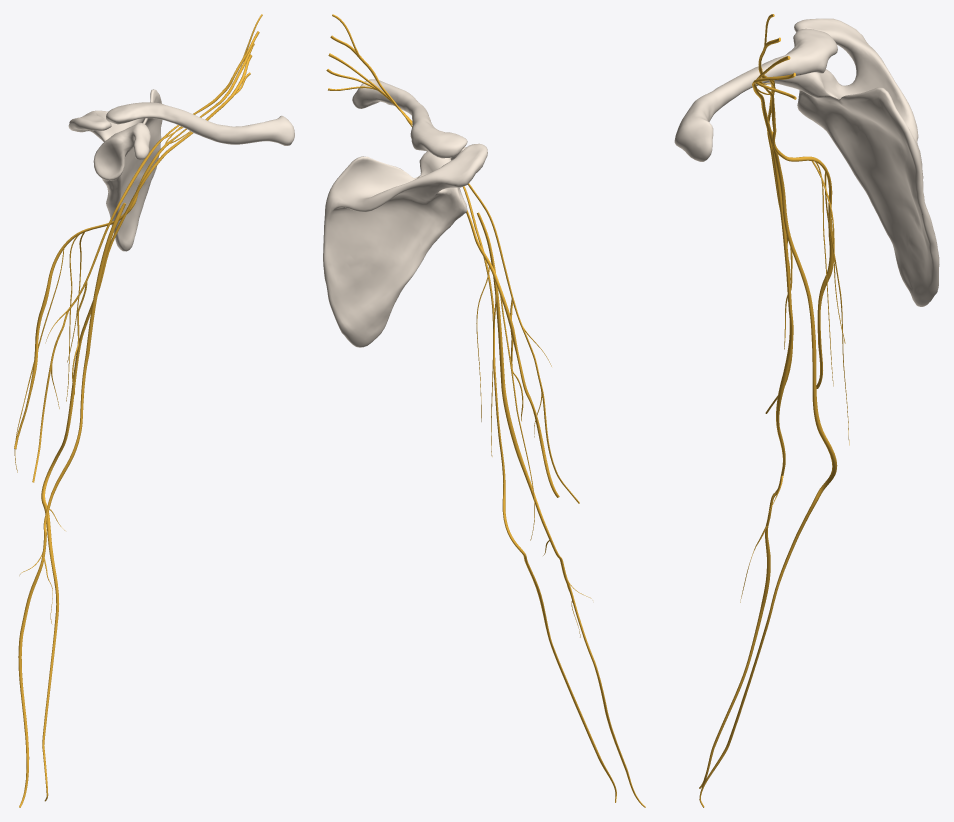
Rendered from brachial-plexus.glb.
The picture shows the model from 3 angles, left to right: view 1: azimuth 30°, elevation 25°; view 2: azimuth 150°, elevation 25°; view 3: azimuth 270°, elevation 25°; orthographic projection. The views are drawn at different scales.
Parts seen in each view (by area): view 1: Median nerve.r, Scapula.r., Clavicle.r; view 2: Scapula.r., Median nerve.r, Clavicle.r; view 3: Scapula.r., Median nerve.r, Clavicle.r.
Boxes of the visible parts, <box> form: Median nerve.r: <box>14,14,262,807</box>; Scapula.r.: <box>68,89,162,251</box>; Clavicle.r: <box>106,102,294,145</box>; Scapula.r.: <box>323,143,487,347</box>; Median nerve.r: <box>326,14,645,807</box>; Clavicle.r: <box>352,79,467,158</box>; Scapula.r.: <box>767,18,939,306</box>; Median nerve.r: <box>699,14,849,807</box>; Clavicle.r: <box>674,28,837,161</box>.
Size of the model in its own units: 0.2656 by 0.653 by 0.1646.
